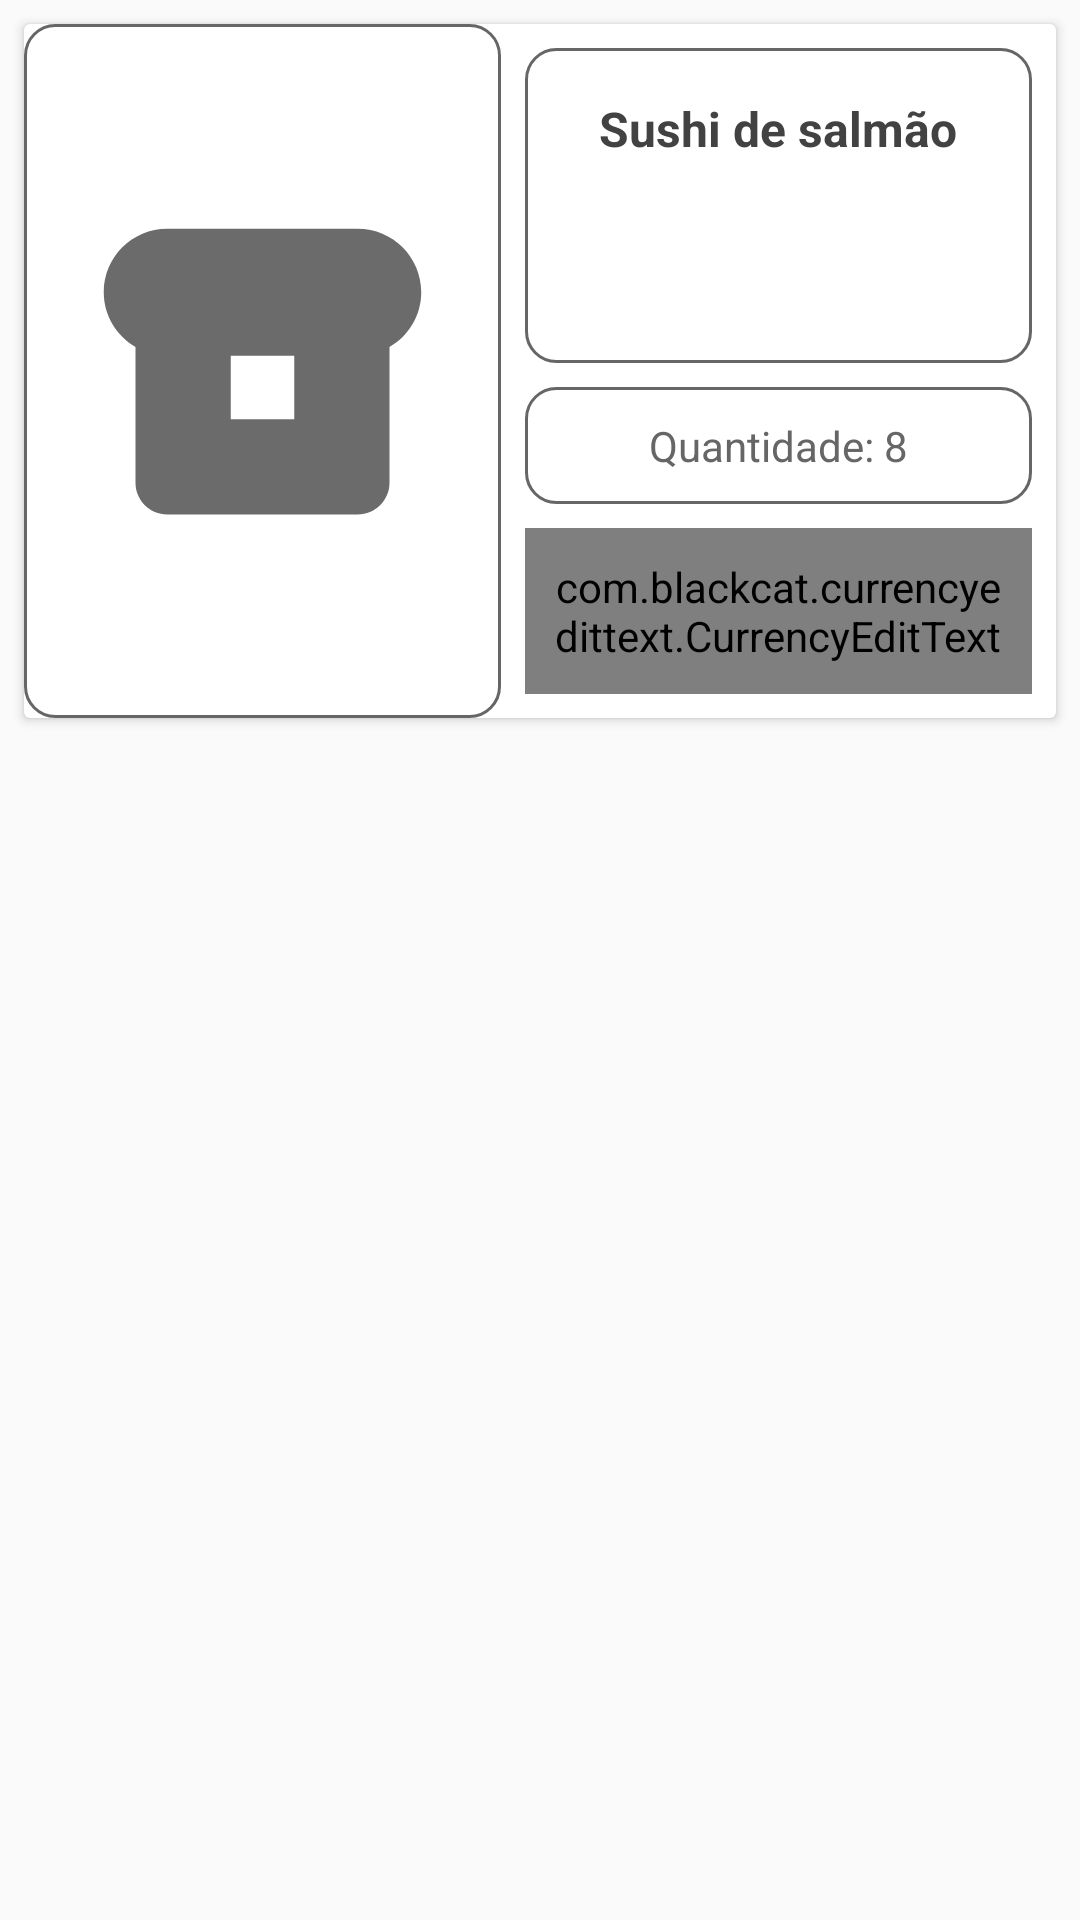

Named icons in this screenshot (1080 x 1920) and their centers, point (x, y):
comida: point (262, 371)
